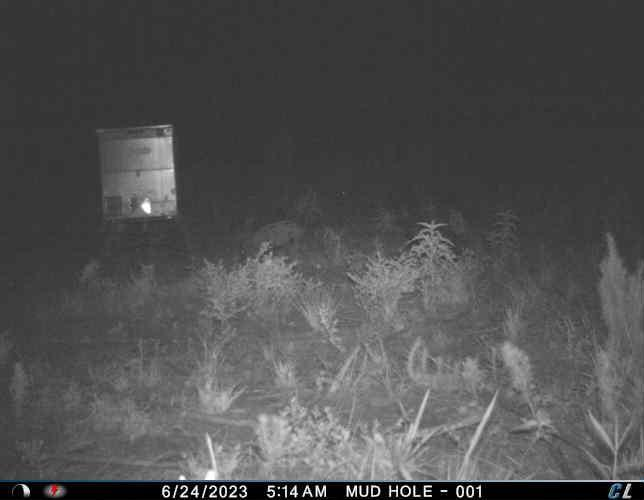Hog: (236, 214, 304, 263)
